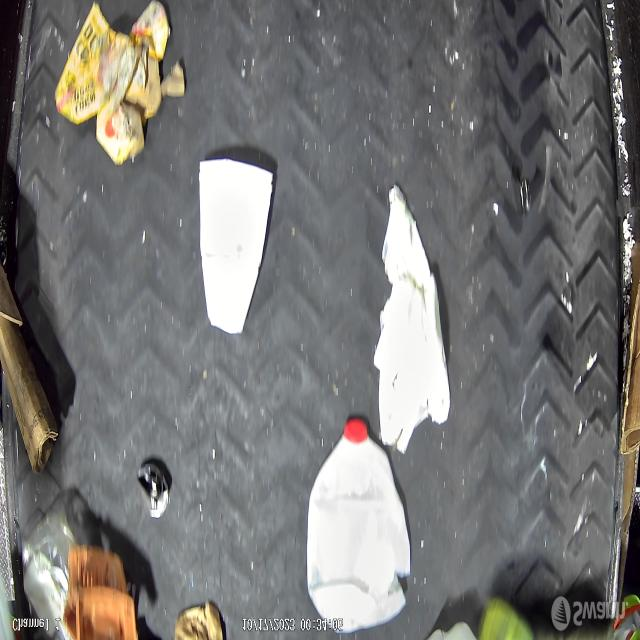milk_jug: (306, 416, 413, 632)
